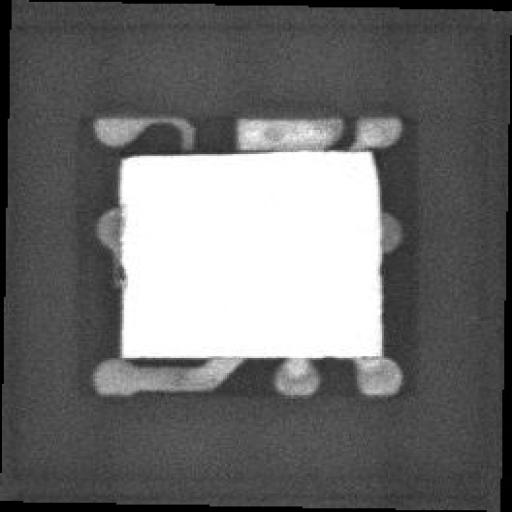DIE_BROKEN: (111, 198, 128, 286)
